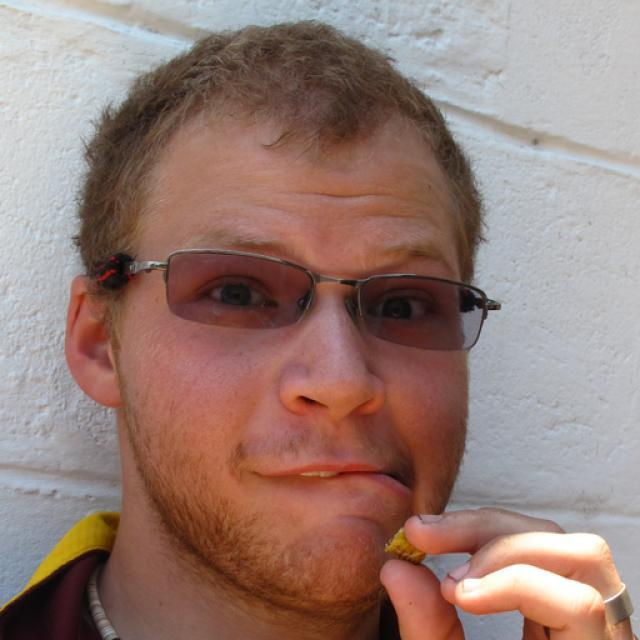content: (122, 138, 468, 602)
